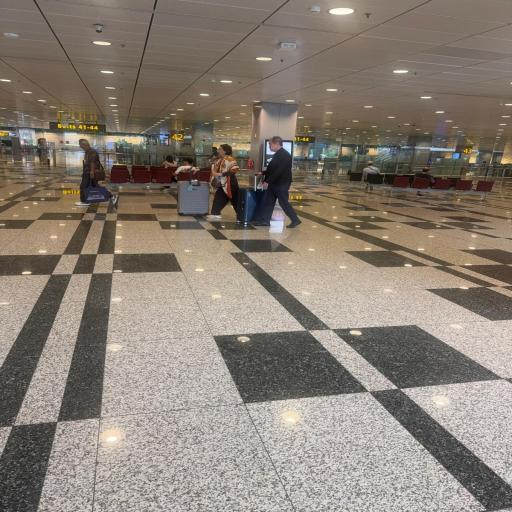person_left: (74, 138, 118, 206)
person_with_luggage_left: (236, 136, 302, 228), (176, 144, 240, 219)
